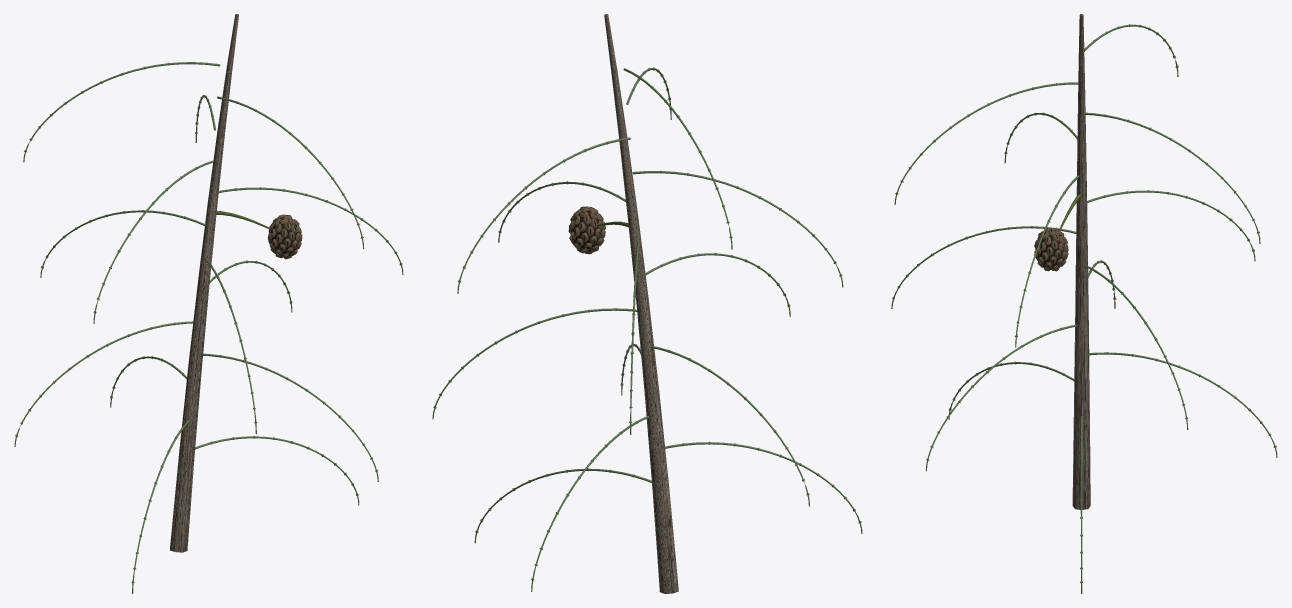
The model's file is casuarina-macro.glb.
The picture shows the model from 3 angles, left to right: view 1: azimuth 30°, elevation 25°; view 2: azimuth 150°, elevation 25°; view 3: azimuth 270°, elevation 25°; orthographic projection. The views are drawn at different scales.
Parts seen in each view (by area): view 1: bark, branchlets, cone-scales, nodes; view 2: bark, branchlets, cone-scales, nodes; view 3: bark, branchlets, cone-scales, nodes.
Boxes of the visible parts, x1=… form: bark: x1=170, y1=14, x2=238, y2=552; branchlets: x1=14, y1=62, x2=403, y2=593; cone-scales: x1=267, y1=214, x2=302, y2=259; nodes: x1=15, y1=62, x2=402, y2=582; bark: x1=604, y1=14, x2=678, y2=593; branchlets: x1=432, y1=68, x2=862, y2=591; cone-scales: x1=568, y1=206, x2=605, y2=254; nodes: x1=433, y1=67, x2=861, y2=580; bark: x1=1072, y1=14, x2=1090, y2=509; branchlets: x1=891, y1=24, x2=1277, y2=593; cone-scales: x1=1034, y1=227, x2=1068, y2=271; nodes: x1=892, y1=24, x2=1276, y2=582.
Bounding box in the file's own units: 0.2593 × 0.3807 × 0.256.
4 materials, 3 textured.
